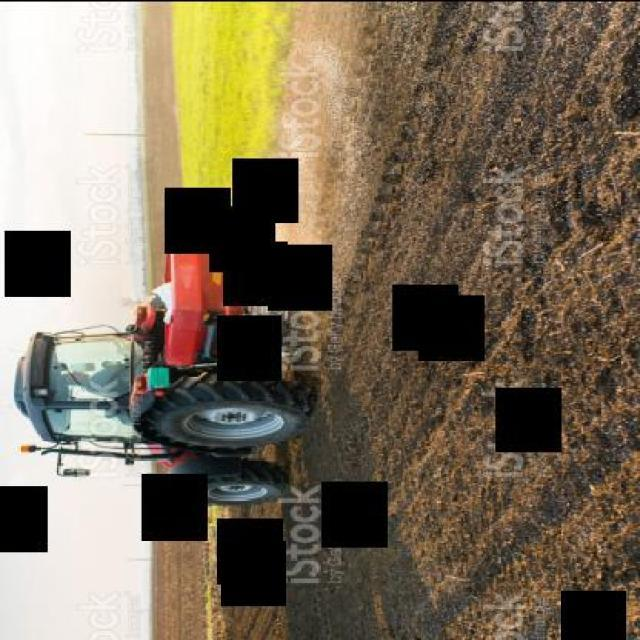Tratores - v5 YOLO V8L 2024-11-13: (5, 204, 392, 530)
